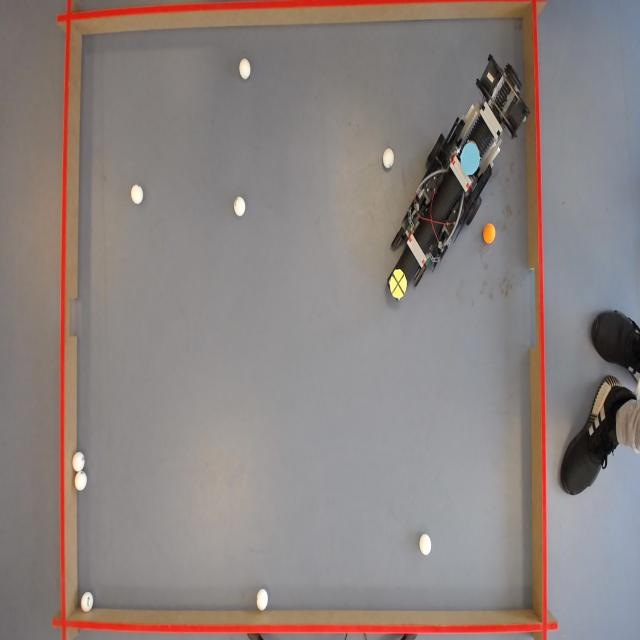orange: (482, 221, 497, 246)
robot: (381, 54, 528, 309)
robot-front: (389, 269, 406, 301)
robot-rear: (460, 140, 480, 176)
white: (255, 589, 269, 612), (72, 451, 86, 474), (239, 58, 253, 80), (419, 533, 432, 556), (382, 149, 396, 170), (80, 592, 94, 613), (235, 196, 248, 218), (131, 183, 144, 204), (74, 473, 87, 493)
